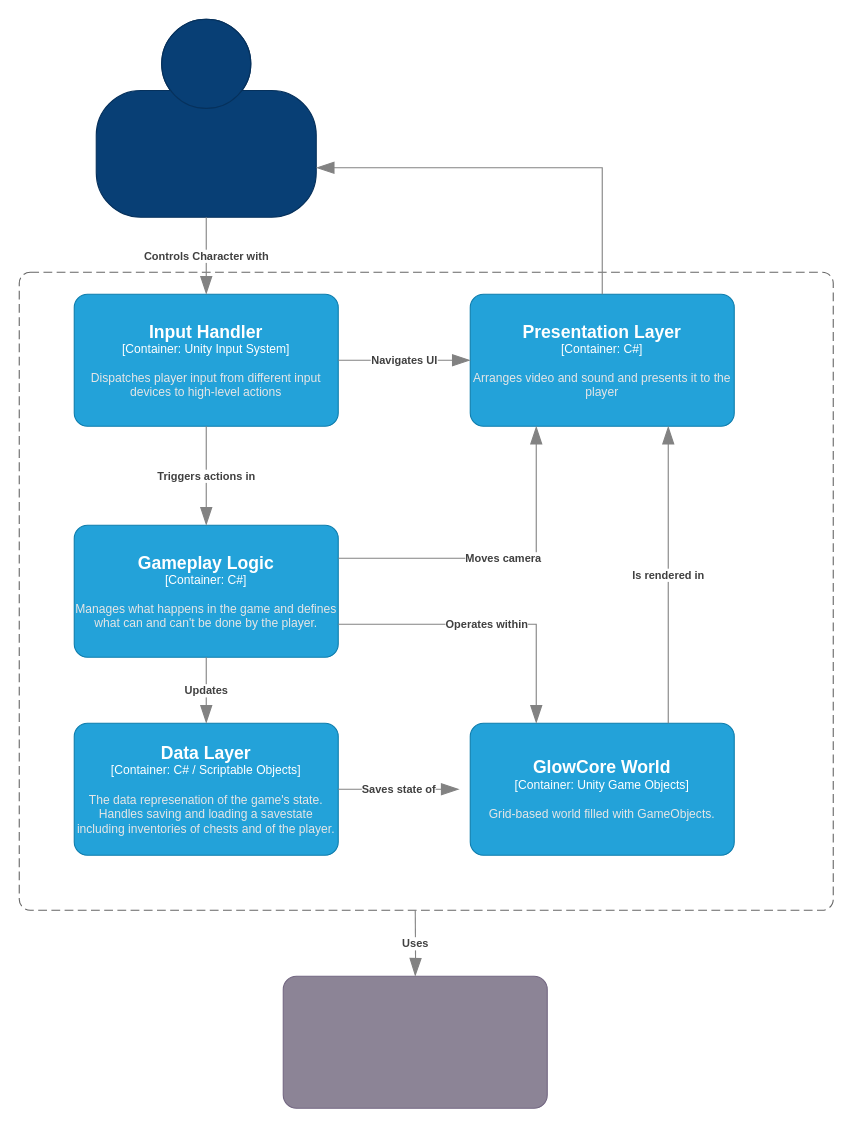
Image size: 853x1128. Some labels were removed from this diagram. The box of each missing label's shape, as (x1, y1, x2, y2) in pixels:
GlowCore Game [Software System]: (18, 271, 833, 910)
Player [Person] Person that plays the game: (95, 18, 316, 217)
Unity Engine [Software System] The underlying game engine: (282, 975, 547, 1108)
